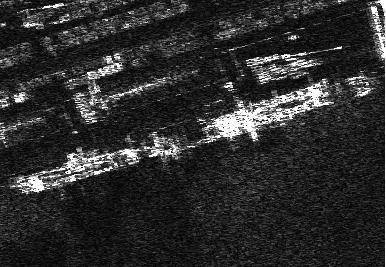ship: (193, 71, 370, 148), (6, 145, 139, 195)
